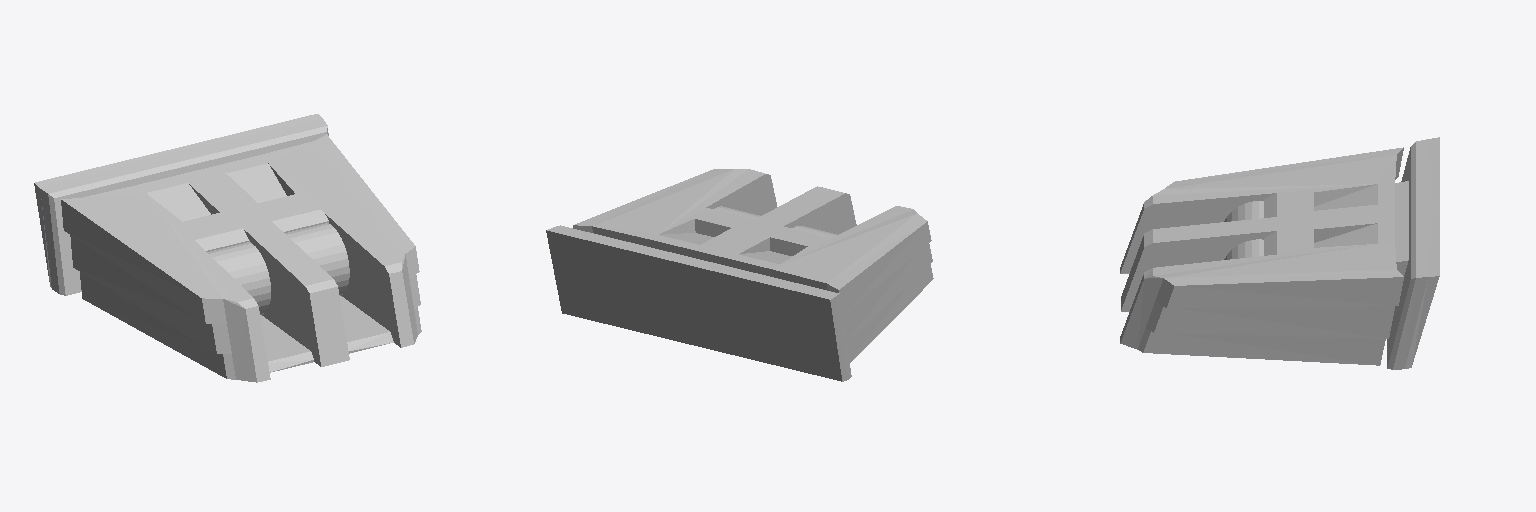
Rendered from YK_Naval_Gun_Mount.obj.
3 renders of one model, left to right at view 1: azimuth 30°, elevation 25°; view 2: azimuth 150°, elevation 25°; view 3: azimuth 270°, elevation 25°, orthographic.
Visible parts, largest first — view 1: Cube.010, Cube.000_Cube.000; view 2: Cube.010; view 3: Cube.010, Cube.000_Cube.000.
Part boxes in pixels (bbox=[...]): Cube.010: bbox=[34, 114, 421, 382]; Cube.000_Cube.000: bbox=[207, 223, 349, 314]; Cube.010: bbox=[546, 169, 933, 381]; Cube.010: bbox=[1120, 137, 1439, 369]; Cube.000_Cube.000: bbox=[1224, 201, 1263, 259].
Bounding box in the file's own units: 3.63 × 1.21 × 3.53.